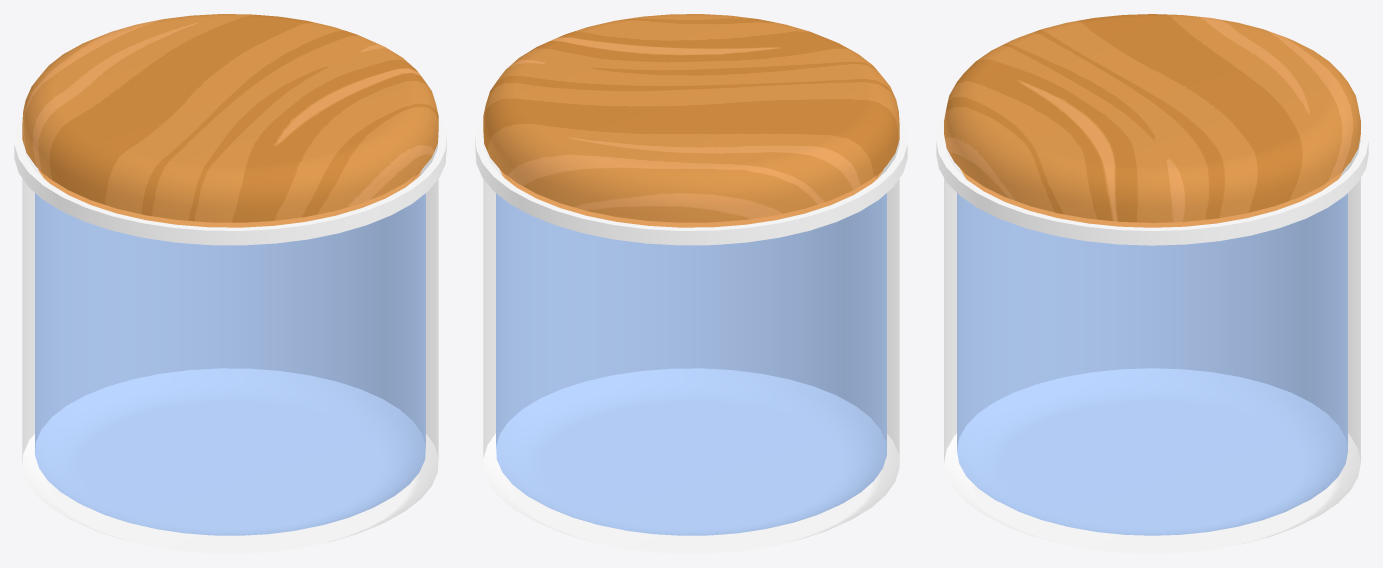
File: JarCookie.glb
3 renders of one model, left to right at view 1: azimuth 30°, elevation 25°; view 2: azimuth 150°, elevation 25°; view 3: azimuth 270°, elevation 25°, orthographic.
Visible parts, largest first — view 1: Cookie_Jar_V8, Lid; view 2: Cookie_Jar_V8, Lid; view 3: Cookie_Jar_V8, Lid.
Boxes of the visible parts, left/top/right/bottom form: Cookie_Jar_V8: left=14, top=114, right=446, bottom=553; Lid: left=22, top=14, right=438, bottom=227; Cookie_Jar_V8: left=475, top=114, right=907, bottom=553; Lid: left=483, top=14, right=899, bottom=227; Cookie_Jar_V8: left=936, top=114, right=1368, bottom=553; Lid: left=944, top=14, right=1360, bottom=227.
Bounding box in the file's own units: 32.51 × 32 × 32.51.
2 materials, 2 textured.
